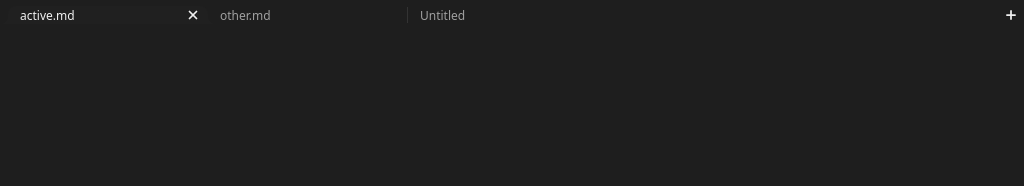
TabStrip context menu › disables Copy path for an untitled tab
Right-click the tab "Untitled" at (443,15), box [420,6,465,24]
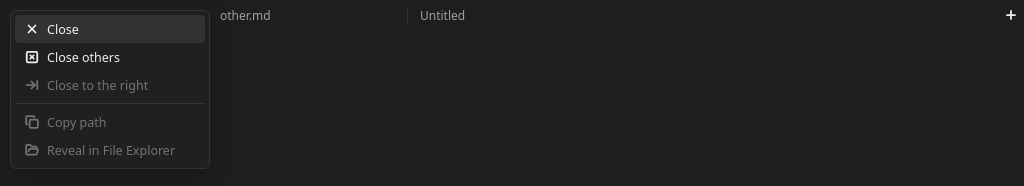
Result: the menu item "Copy path" is disabled at [15,108,205,136]
